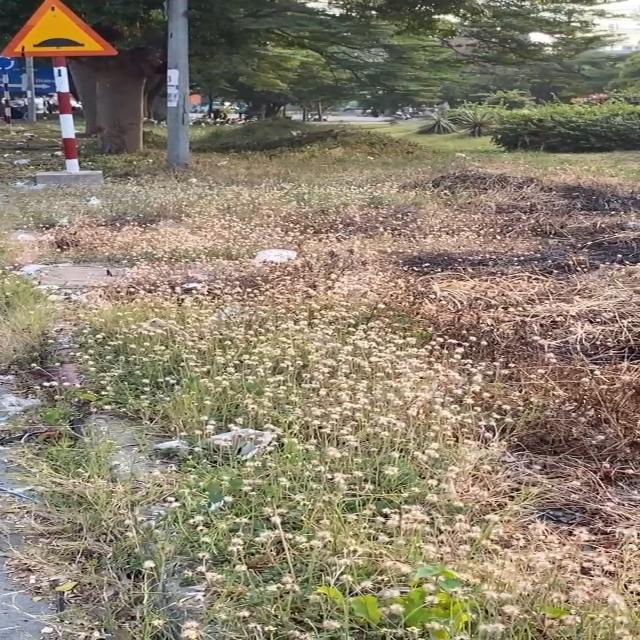221-duong-go-ghe: (0, 0, 119, 56)
303-noi-giao-nhau-chay-theo-vong-xuyen: (0, 55, 14, 71)
